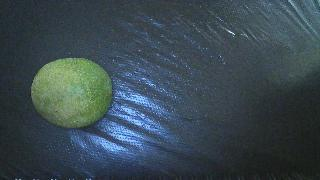DESECHO: (31, 58, 112, 128)
